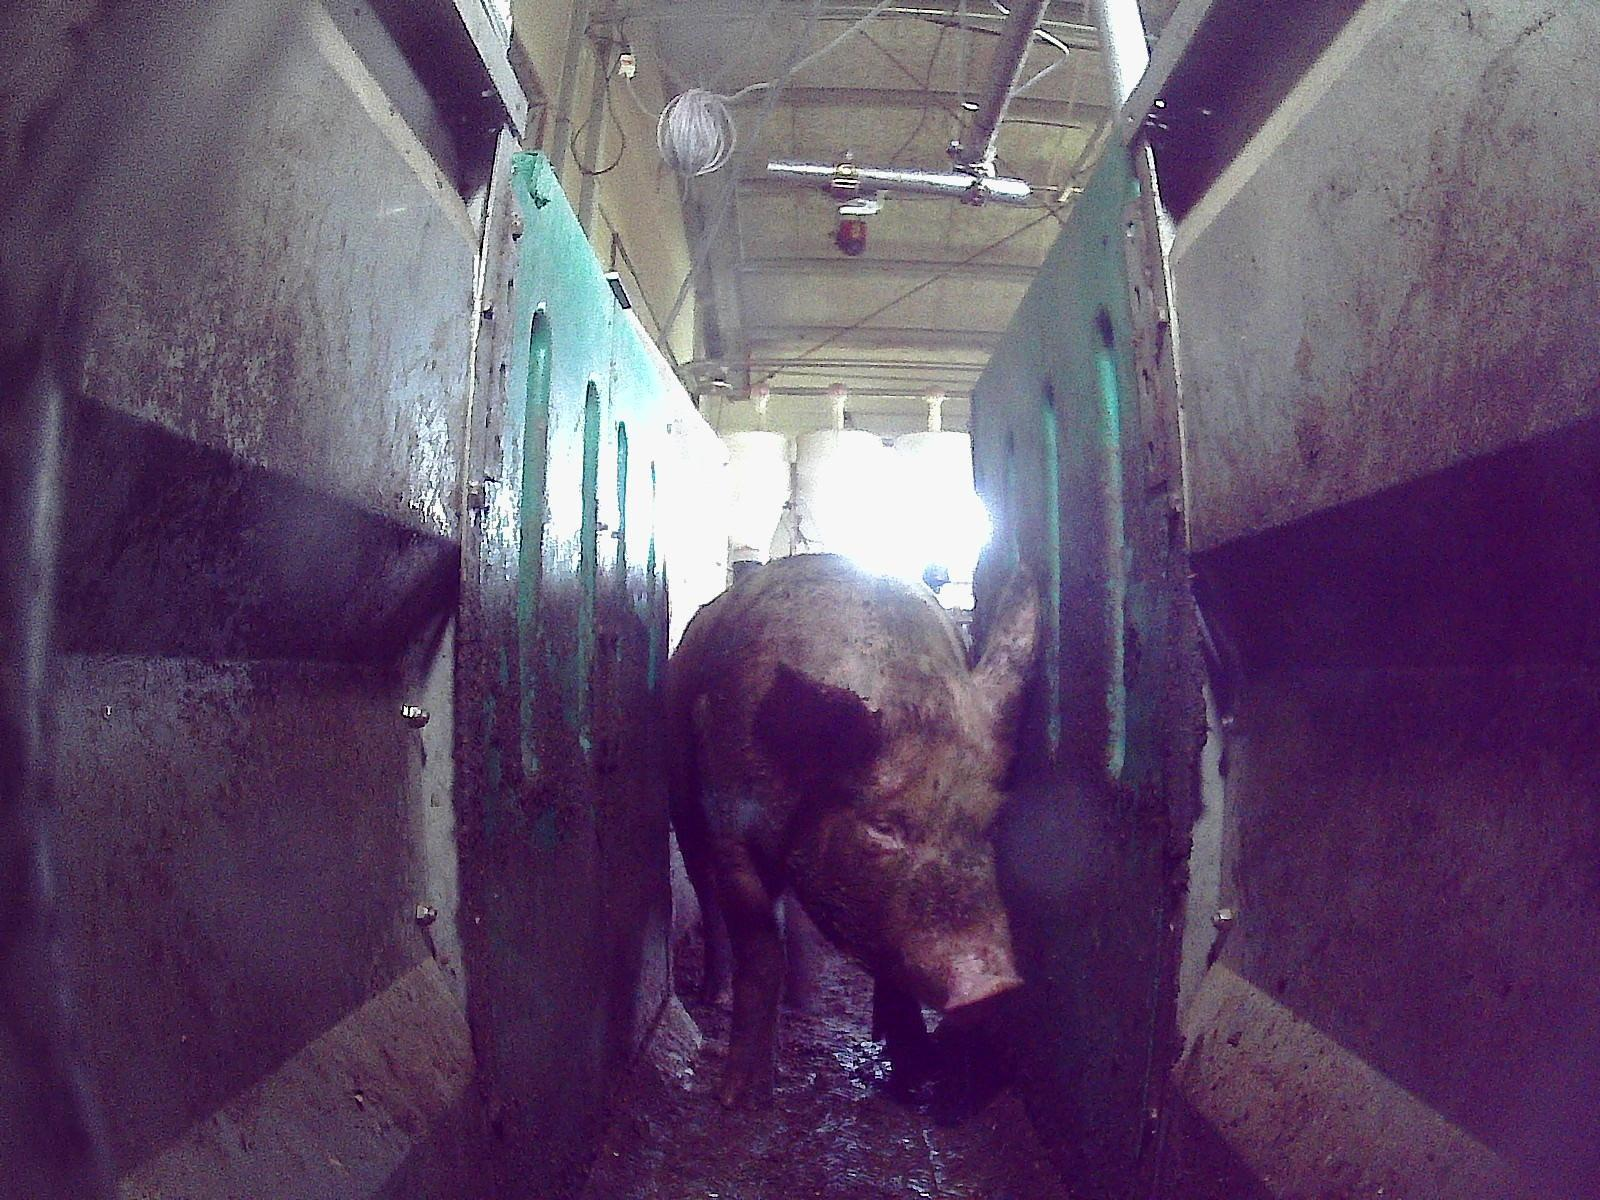Face: (807, 706, 1021, 1020)
